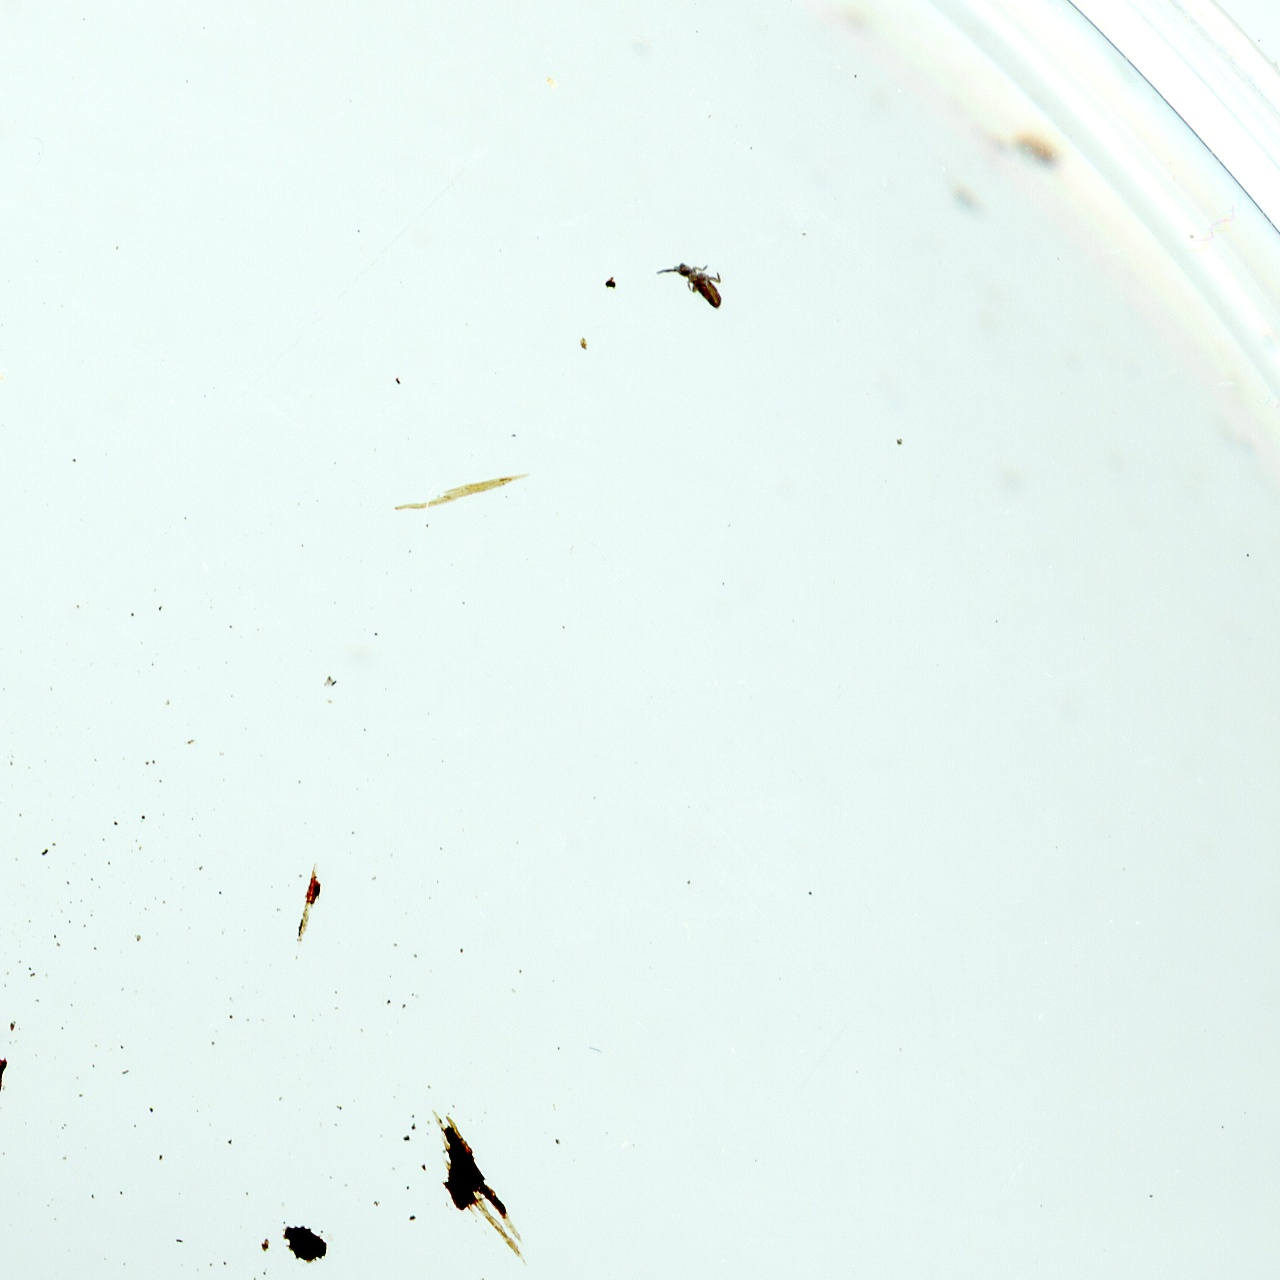arthropod: (654, 252, 726, 314)
